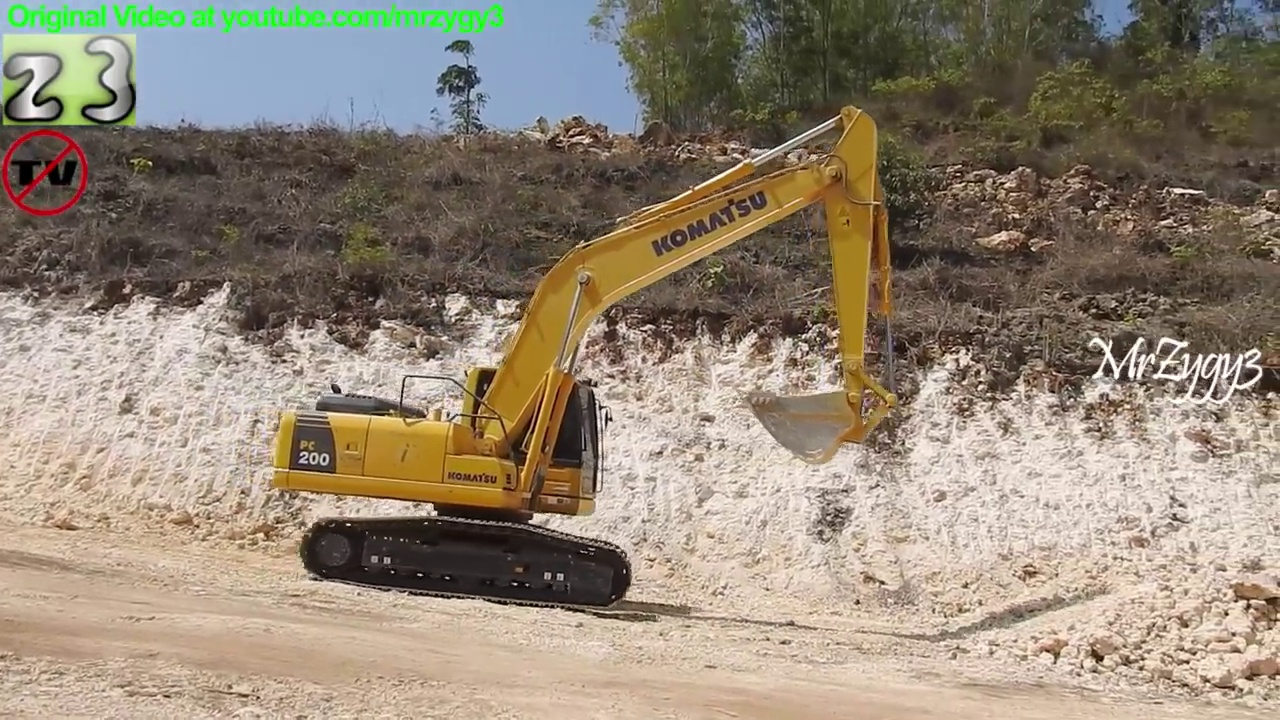excavator: (267, 102, 905, 612)
